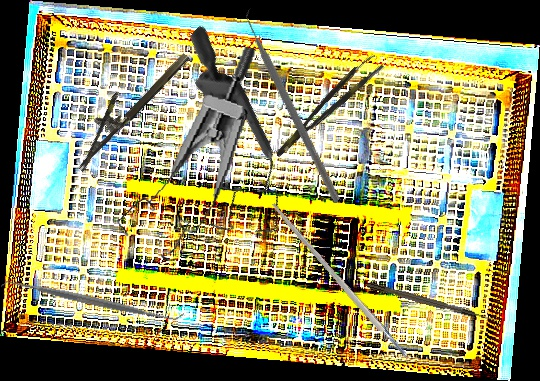Chopper: (186, 0, 405, 204)
Hook Surgical: (365, 280, 498, 325)
Needle Holder: (60, 38, 191, 172)
Scalpel Handle: (269, 201, 409, 360)
Spatula Surgical: (0, 269, 185, 332)
Speculum: (104, 23, 344, 261), (111, 31, 260, 270)
Tissue Forceps: (266, 52, 386, 159)
